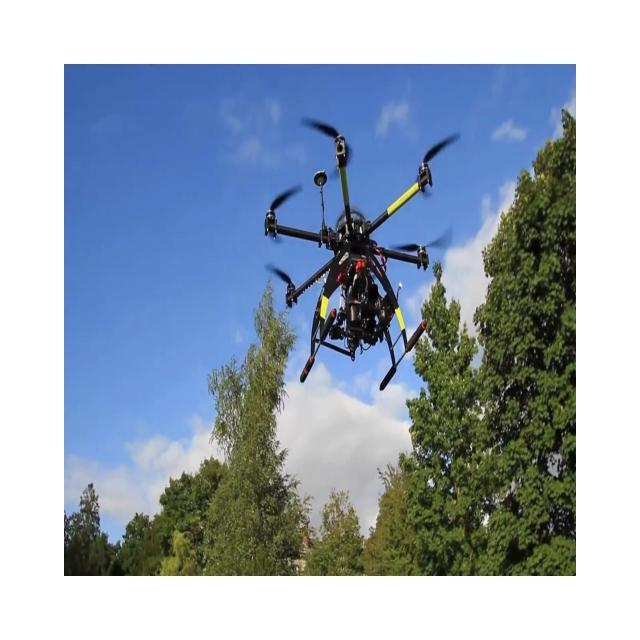drone: (263, 116, 461, 391)
